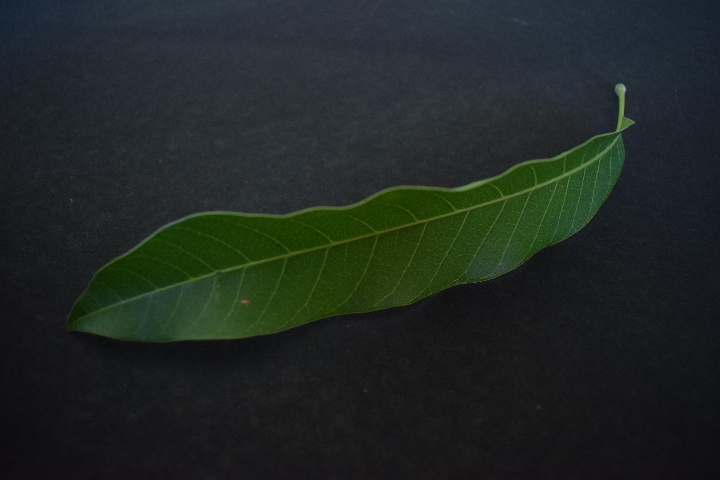healthy: (65, 129, 643, 351)
